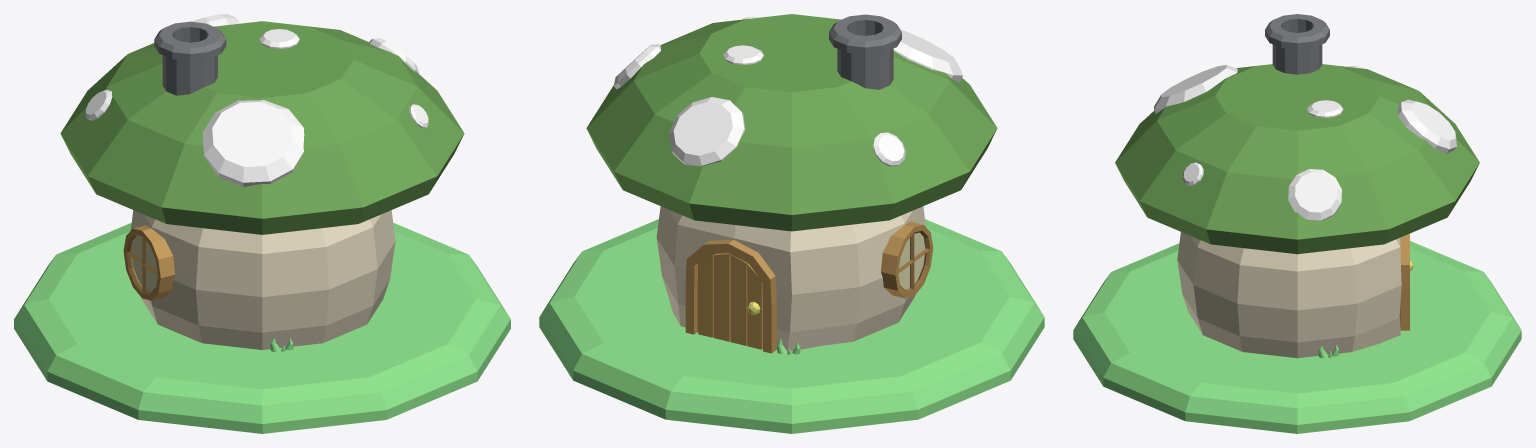
The model's file is mushroomhousegreenfinal.fbx.
3 renders of one model, left to right at view 1: azimuth 30°, elevation 25°; view 2: azimuth 150°, elevation 25°; view 3: azimuth 270°, elevation 25°, orthographic. The views are drawn at different scales.
Parts seen in each view (by area): view 1: house, floor, dots, Circle, window, windowframe; view 2: house, floor, dots, door2, Circle, door, window, windowframe; view 3: house, floor, dots, Circle, door.
Part boxes in pixels (<box>): house: <box>60,21,464,349</box>; floor: <box>14,223,510,433</box>; dots: <box>86,14,428,186</box>; Circle: <box>154,21,226,95</box>; window: <box>123,225,174,300</box>; windowframe: <box>126,234,157,294</box>; house: <box>586,14,997,351</box>; floor: <box>539,219,1044,433</box>; dots: <box>614,16,962,166</box>; door2: <box>698,253,762,349</box>; Circle: <box>829,14,901,89</box>; door: <box>685,239,776,353</box>; window: <box>881,221,933,298</box>; windowframe: <box>898,230,930,292</box>; house: <box>1115,64,1479,358</box>; floor: <box>1073,241,1521,433</box>; dots: <box>1154,65,1456,221</box>; Circle: <box>1265,14,1329,74</box>; door: <box>1399,233,1409,330</box>.
Bounding box in the file's own units: 600 × 416 × 600.
